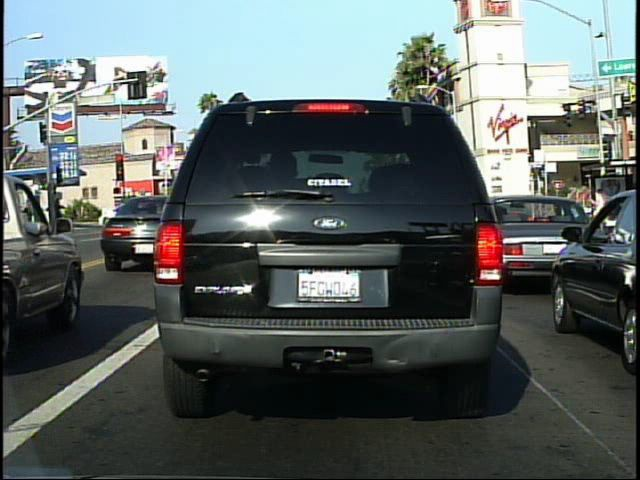person: (588, 184, 610, 240)
